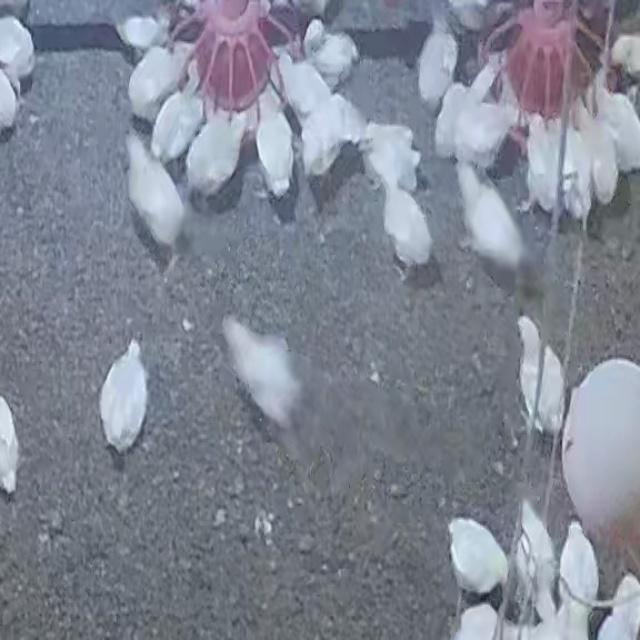chicken: (222, 316, 302, 460), (434, 54, 511, 164), (456, 160, 529, 276), (126, 135, 184, 267), (99, 338, 149, 456), (299, 90, 362, 183), (516, 312, 564, 433), (185, 106, 247, 196), (126, 42, 192, 118), (446, 516, 507, 597), (381, 183, 431, 277), (594, 76, 640, 176), (360, 120, 420, 196), (153, 66, 201, 158), (580, 106, 625, 203), (516, 501, 556, 606), (415, 13, 456, 113), (277, 47, 329, 123), (555, 122, 593, 225), (255, 100, 294, 196), (559, 517, 595, 621), (302, 24, 358, 90), (527, 113, 557, 211), (114, 8, 171, 52), (0, 19, 35, 82), (613, 571, 640, 640), (450, 0, 502, 32), (610, 34, 640, 75), (1, 68, 18, 131)
